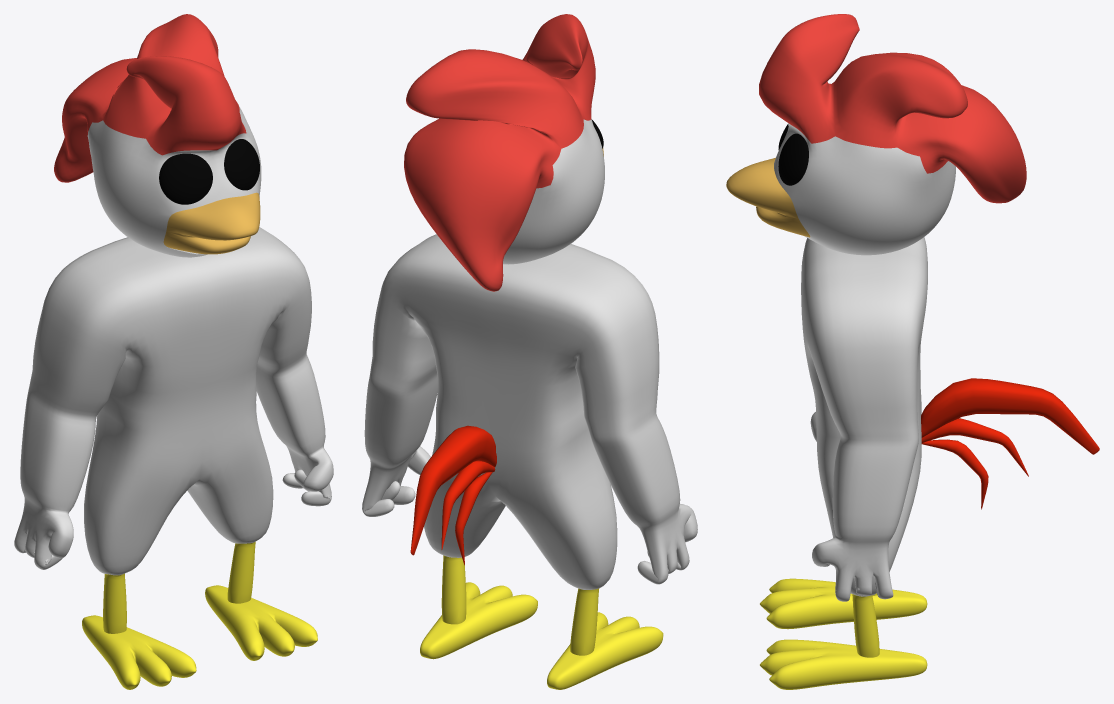
Rendered from Cluckles Le BaAawk_Mesh.fbx.
The picture shows the model from 3 angles, left to right: view 1: azimuth 30°, elevation 25°; view 2: azimuth 150°, elevation 25°; view 3: azimuth 270°, elevation 25°; orthographic projection. The views are drawn at different scales.
Parts seen in each view (by area): view 1: Cube, Head_Main, Beak, Sphere; view 2: Cube, Head_Main, Tail.002, Tail.001, Tail; view 3: Cube, Head_Main, Tail.002, Beak, Tail.001, Sphere, Tail.
Boxes of the visible parts, box(x1,y1,x2,y2) form: Cube: box(14, 227, 333, 689); Head_Main: box(54, 14, 261, 257); Beak: box(163, 192, 260, 254); Sphere: box(159, 139, 259, 204); Cube: box(362, 234, 697, 689); Head_Main: box(404, 14, 604, 291); Tail.002: box(410, 425, 496, 555); Tail.001: box(441, 461, 495, 549); Tail: box(455, 472, 492, 565); Cube: box(760, 237, 927, 689); Head_Main: box(759, 14, 1026, 255); Tail.002: box(921, 378, 1099, 454); Beak: box(726, 157, 810, 237); Tail.001: box(921, 418, 1028, 476); Sphere: box(778, 124, 808, 185); Tail: box(921, 439, 988, 509).
Bounding box in the file's own units: 3.31 × 3.58 × 6.51.
